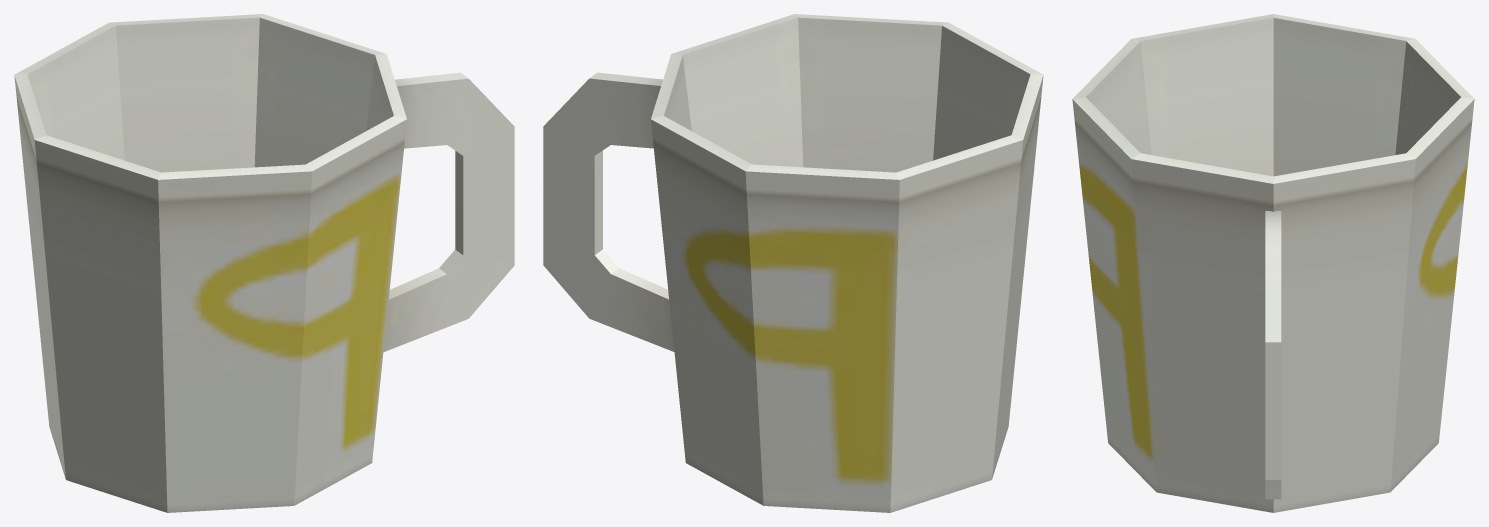
Rendered from Penguin_paperCup.obj.
The picture shows the model from 3 angles, left to right: view 1: azimuth 30°, elevation 25°; view 2: azimuth 150°, elevation 25°; view 3: azimuth 270°, elevation 25°; orthographic projection.
Parts seen in each view (by area): view 1: Penguin_paperCup_tri; view 2: Penguin_paperCup_tri; view 3: Penguin_paperCup_tri.
Boxes of the visible parts, x1=… form: Penguin_paperCup_tri: x1=14, y1=14, x2=514, y2=512; Penguin_paperCup_tri: x1=543, y1=14, x2=1043, y2=512; Penguin_paperCup_tri: x1=1072, y1=14, x2=1474, y2=512.
Size of the model in its own units: 0.1762 by 0.1237 by 0.1304.
1 material, 1 textured.
